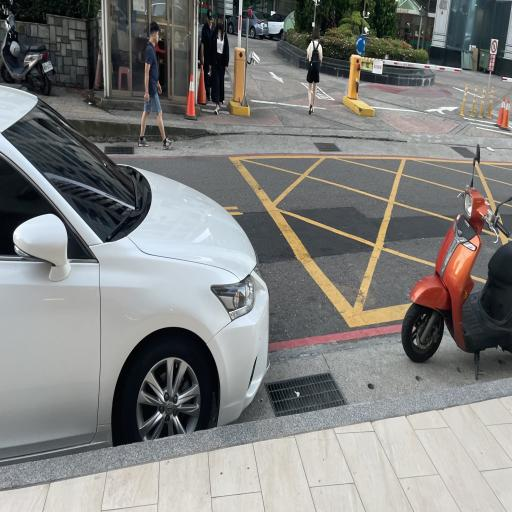MIU: (134, 292, 360, 428)
car: (0, 70, 274, 448)
redline: (270, 310, 412, 364)
